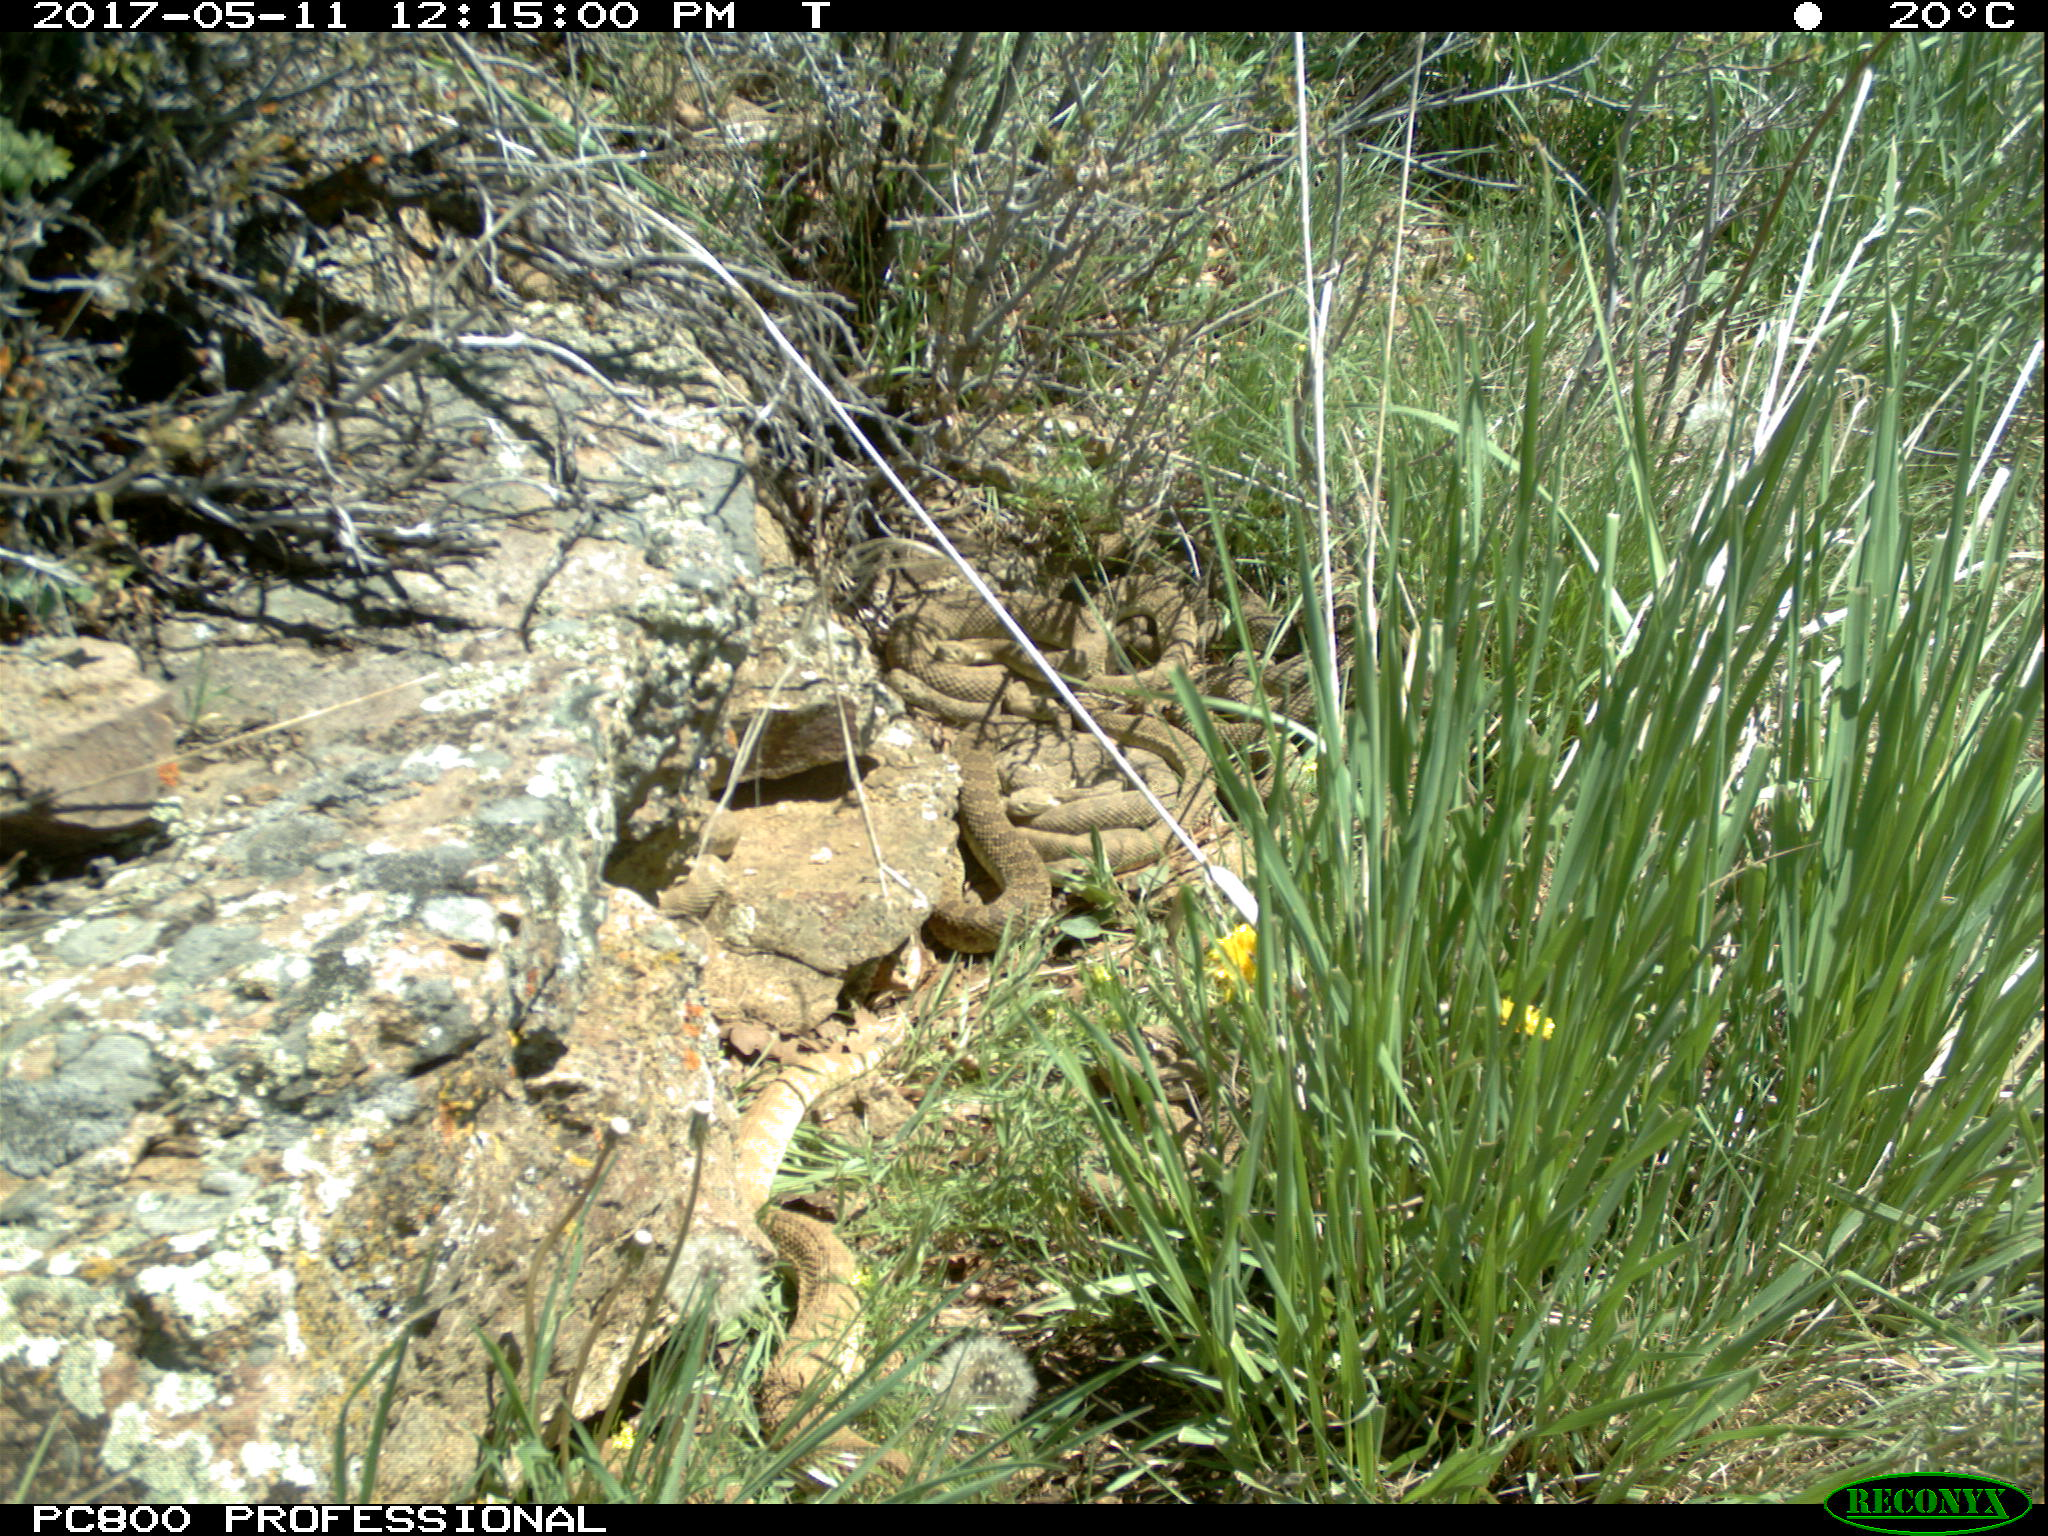snake: (722, 1021, 922, 1494), (855, 539, 1200, 713), (942, 718, 1218, 865), (943, 742, 1051, 954), (648, 794, 739, 926), (1200, 644, 1337, 721)
